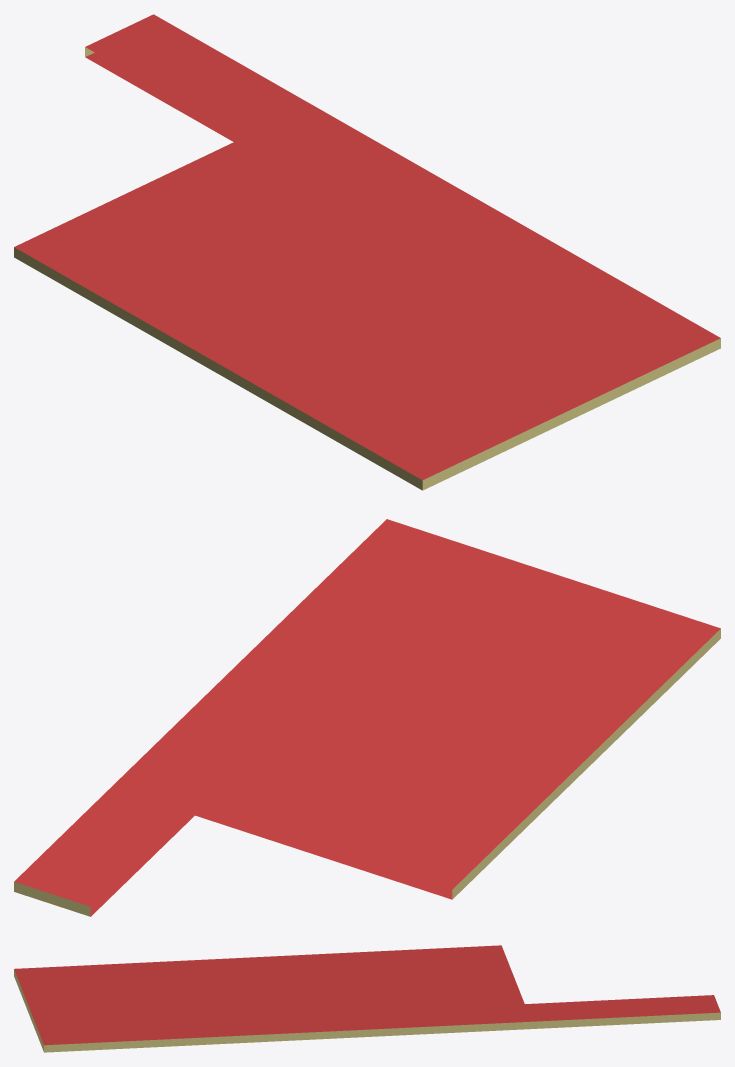
3 views of the same model, one above another, from view 1: azimuth 30°, elevation 25°; view 2: azimuth 150°, elevation 25°; view 3: azimuth 270°, elevation 25° (orthographic). The views are drawn at different scales.
Size of the model in its own units: 3.93 by 8.7 by 0.575.
